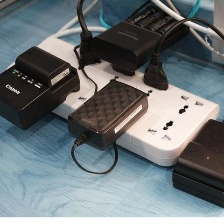three_eye_plug: (0, 35, 221, 169)
